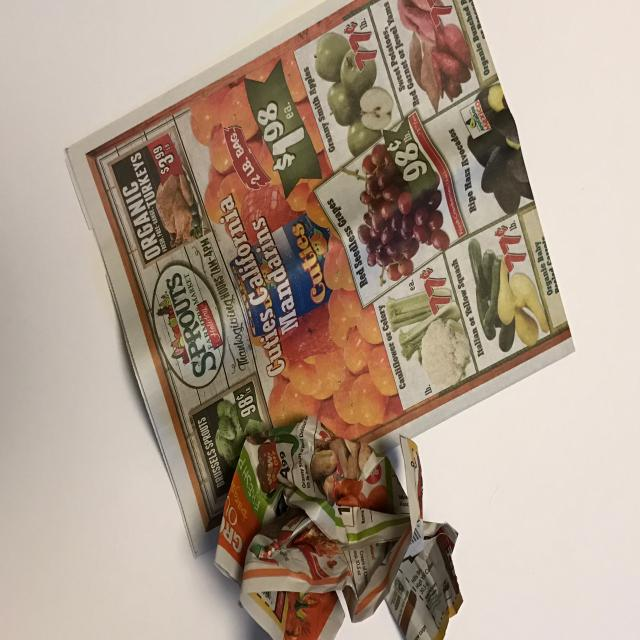paper: (76, 0, 599, 640)
